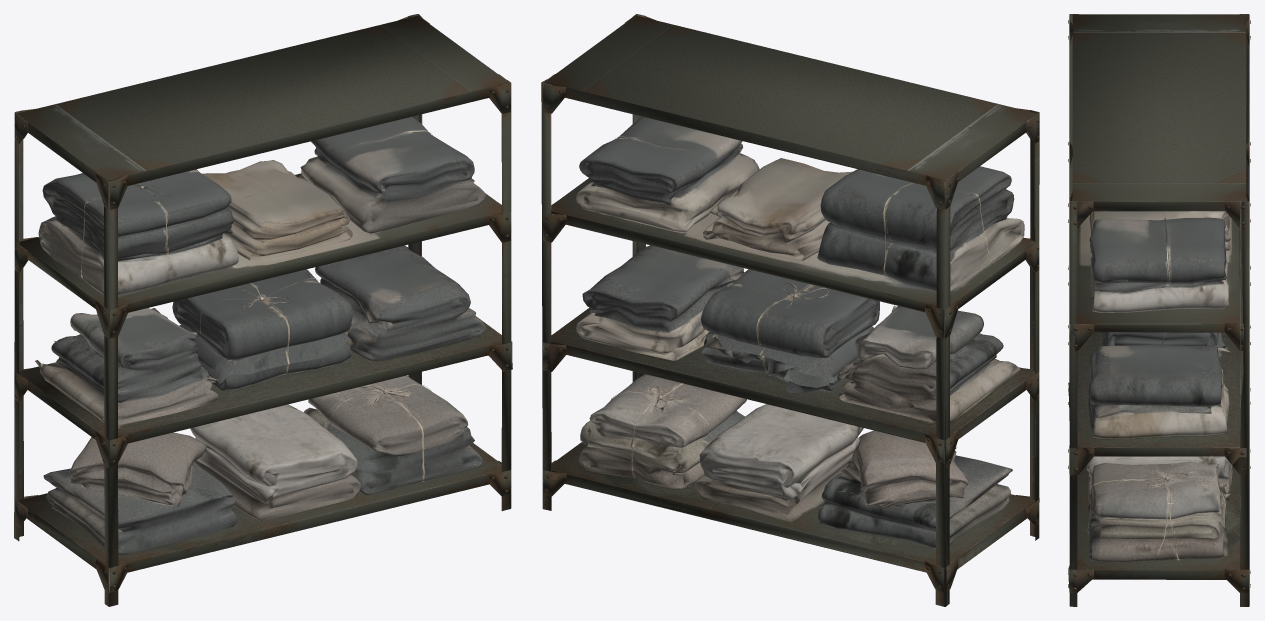
Rendered from silo81_linen_shelf.glb.
3 views of the same model, side by side, from view 1: azimuth 30°, elevation 25°; view 2: azimuth 150°, elevation 25°; view 3: azimuth 270°, elevation 25° (orthographic). The views are drawn at different scales.
Bounding box in the file's own units: 0.9526 × 0.9546 × 0.3892.
1 material, 1 textured.
